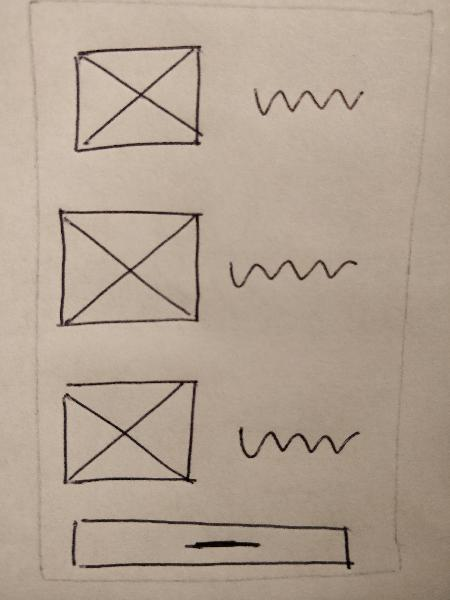button: (53, 512, 363, 570)
image: (53, 200, 205, 330), (51, 371, 203, 501), (67, 42, 209, 160)
text: (221, 246, 365, 300), (226, 413, 370, 467), (247, 72, 367, 136)
